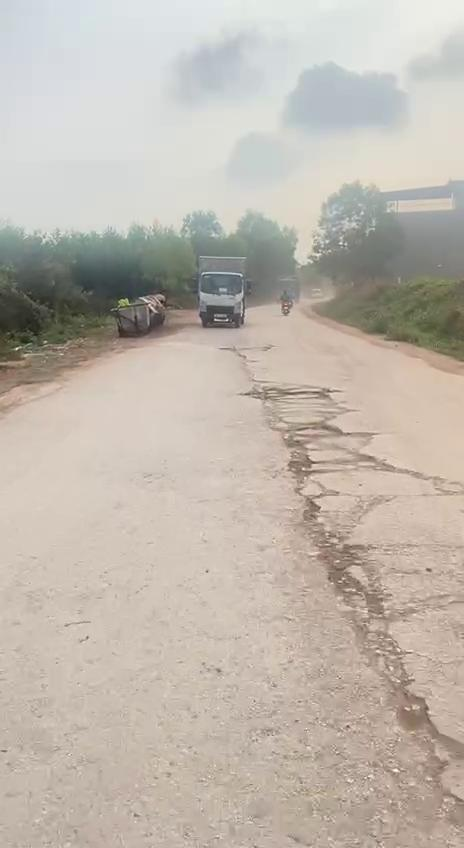pothole: (302, 504, 386, 620), (391, 696, 464, 774), (281, 422, 341, 477), (241, 378, 334, 403)
